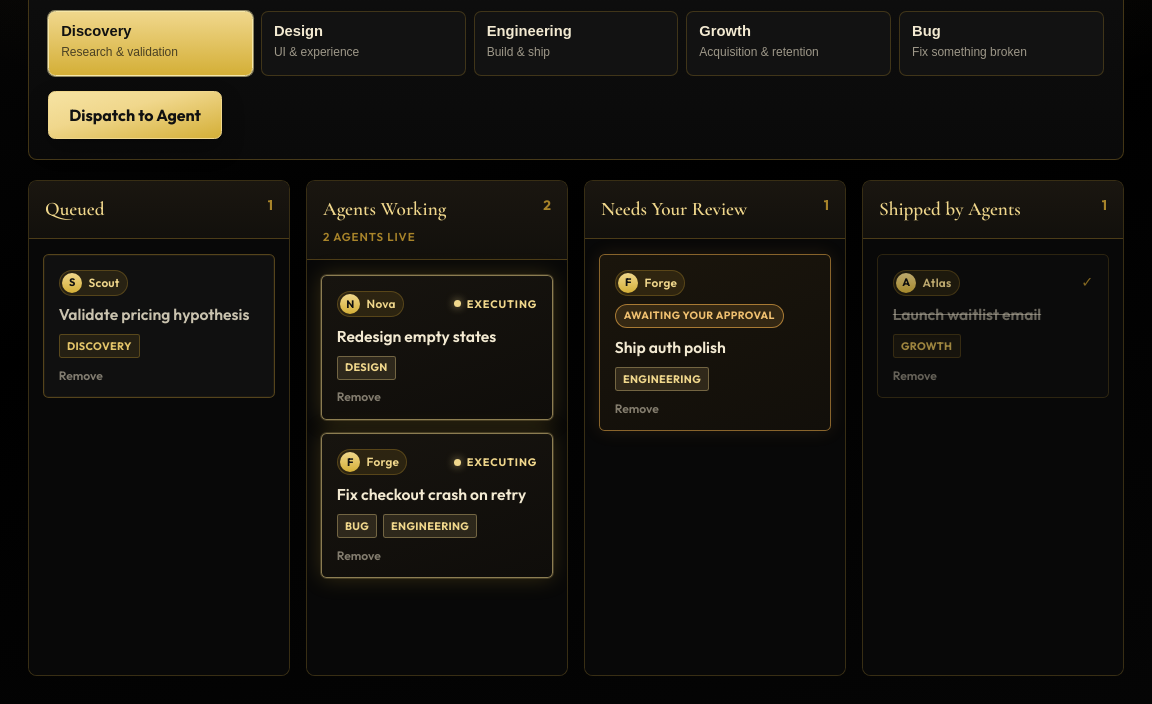
Test: TasksPage Kanban › removes a work item
(page scrolled)
Click the button with aria-label "delete validate pricing hypothesis" at (81, 376), box [59,367,103,385]
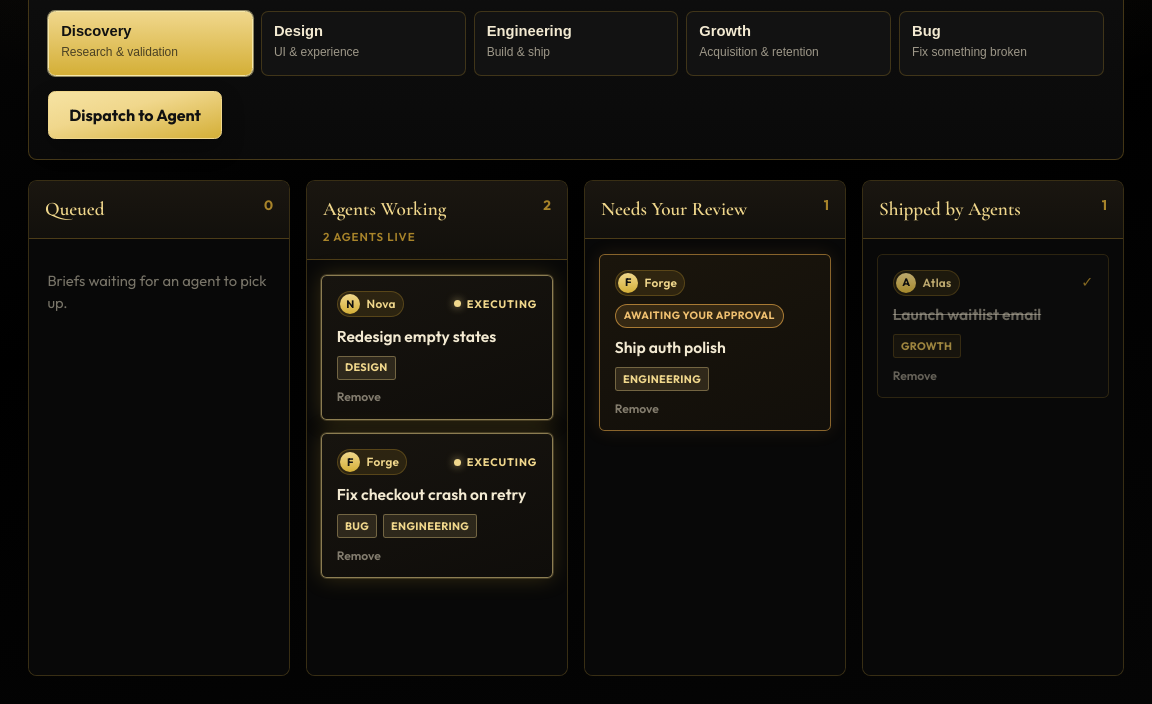
Now the text "Validate pricing hypothesis" is gone
